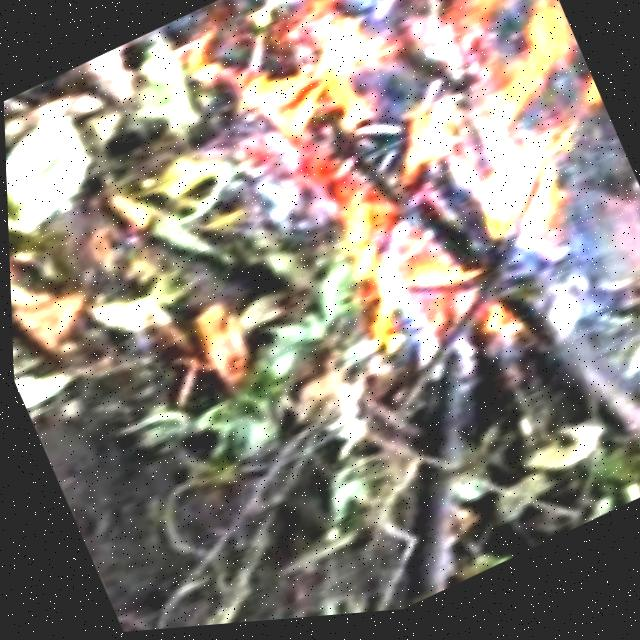Fire: (156, 0, 640, 450)
